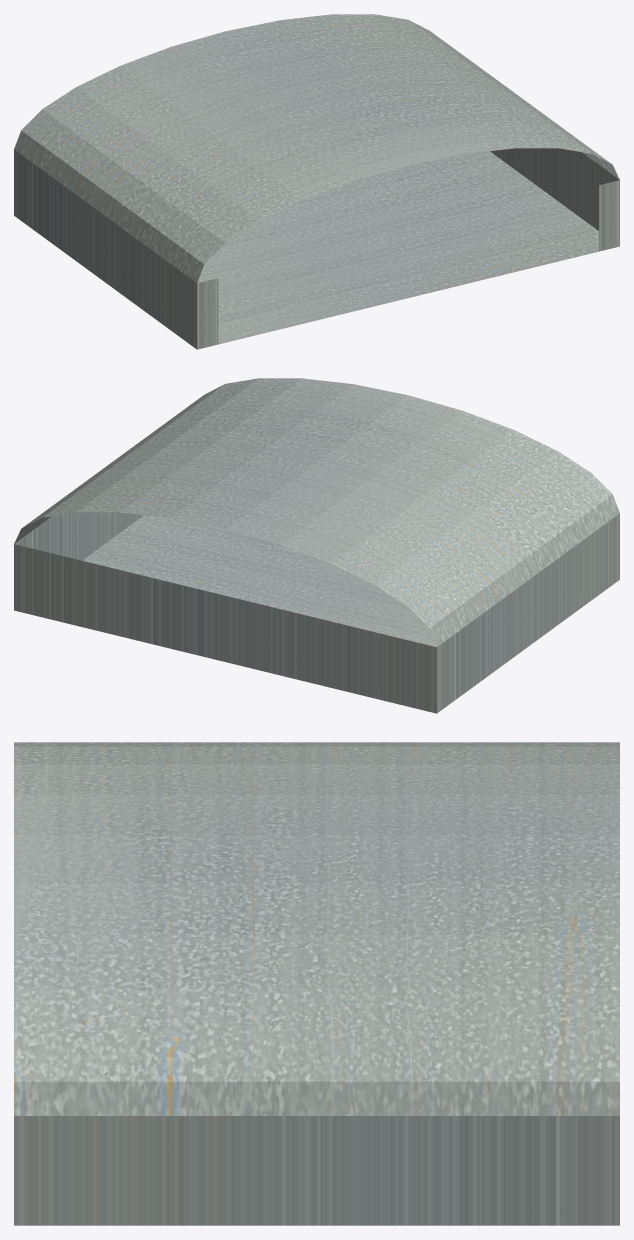
The model's file is hangar.glb.
3 renders of one model, top to bottom at view 1: azimuth 30°, elevation 25°; view 2: azimuth 150°, elevation 25°; view 3: azimuth 270°, elevation 25°, orthographic. The views are drawn at different scales.
Visible parts, largest first — view 1: AircraftHangar; view 2: AircraftHangar; view 3: AircraftHangar.
Boxes of the visible parts, bbox=[...] form: AircraftHangar: bbox=[14, 14, 619, 349]; AircraftHangar: bbox=[14, 378, 619, 713]; AircraftHangar: bbox=[14, 742, 619, 1225].
Size of the model in its own units: 40 by 12 by 30.
Materials: 1 (1 with a texture image).
